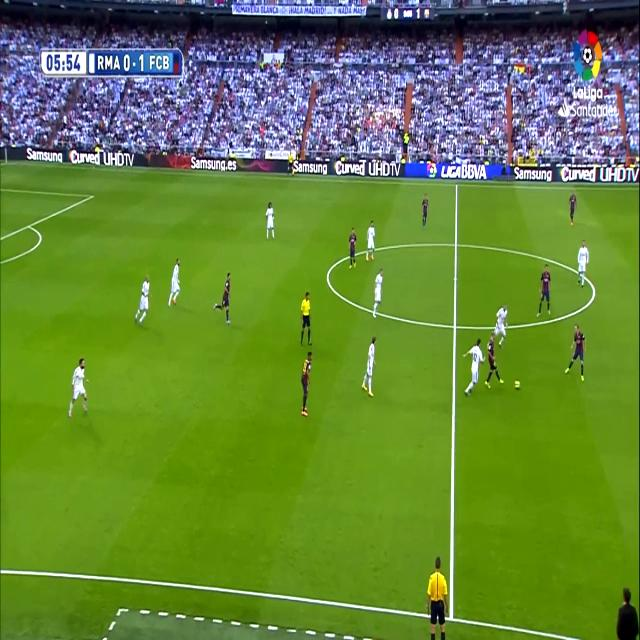bigarea_top_inner: (88, 189, 95, 201)
halfcircle_bottom: (450, 312, 460, 338)
halfcircle_top: (451, 232, 462, 254)
midline_bottom_intersection: (444, 604, 458, 626)
midline_top_intersection: (453, 178, 461, 192)
top_arc_area_intersection: (26, 219, 34, 232)
